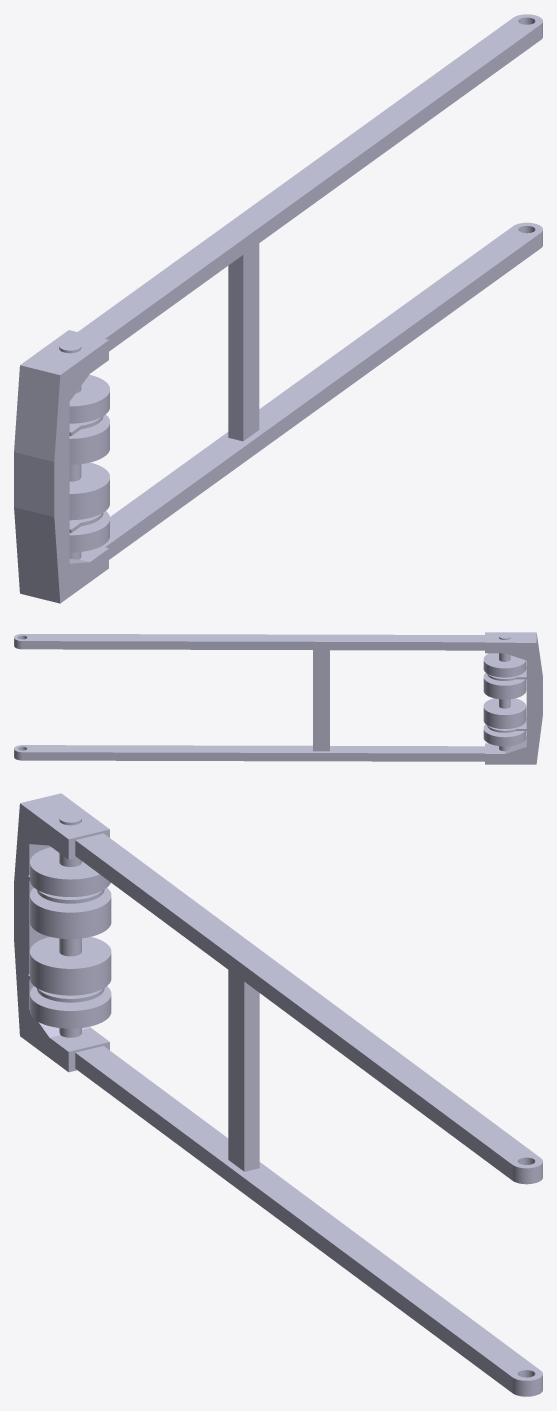
File: MAST.obj
3 renders of one model, top to bottom at view 1: azimuth 30°, elevation 25°; view 2: azimuth 150°, elevation 25°; view 3: azimuth 270°, elevation 25°, orthographic. The views are drawn at different scales.
Parts seen in each view (by area): view 1: SCX2000-3_MAST_TW_000_1-HSC_SCX2000-3_MAST (Meshed); view 2: SCX2000-3_MAST_TW_000_1-HSC_SCX2000-3_MAST (Meshed); view 3: SCX2000-3_MAST_TW_000_1-HSC_SCX2000-3_MAST (Meshed).
Part boxes in pixels (bbox=[...]): SCX2000-3_MAST_TW_000_1-HSC_SCX2000-3_MAST (Meshed): bbox=[14, 14, 542, 603]; SCX2000-3_MAST_TW_000_1-HSC_SCX2000-3_MAST (Meshed): bbox=[14, 632, 542, 764]; SCX2000-3_MAST_TW_000_1-HSC_SCX2000-3_MAST (Meshed): bbox=[14, 793, 542, 1396].
Bounding box in the file's own units: 7118 × 2096 × 4219.
